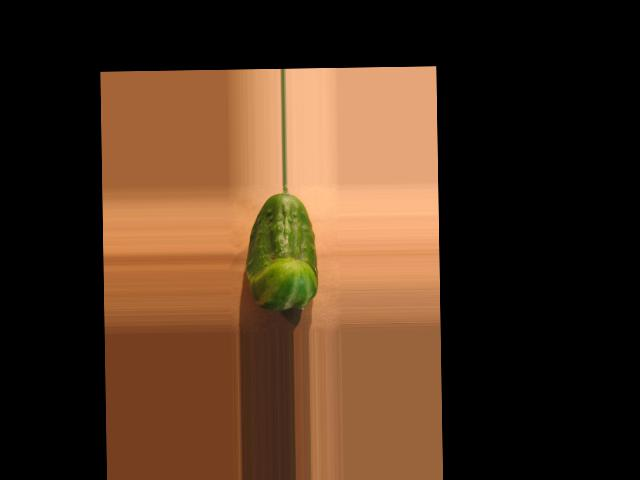cucumber: (245, 192, 319, 310)
